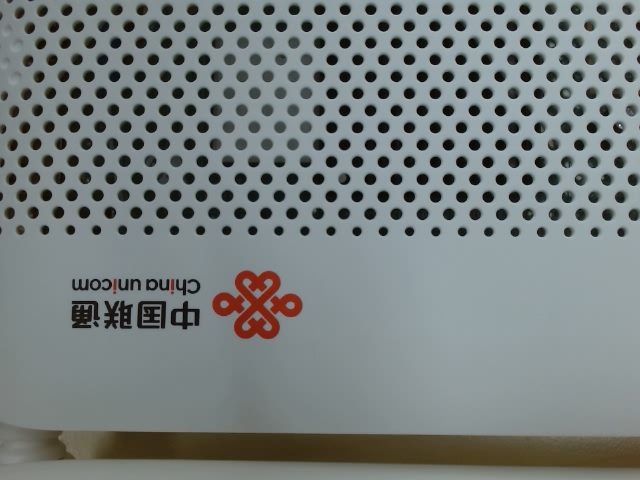AD_ChinaUnicom: (61, 259, 321, 354)
